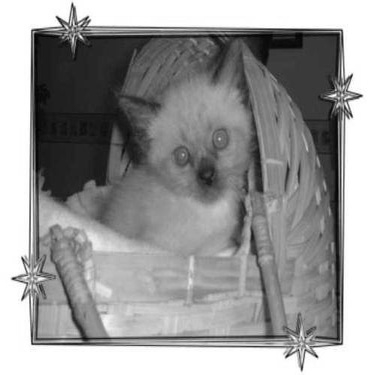cat: (101, 41, 253, 260)
